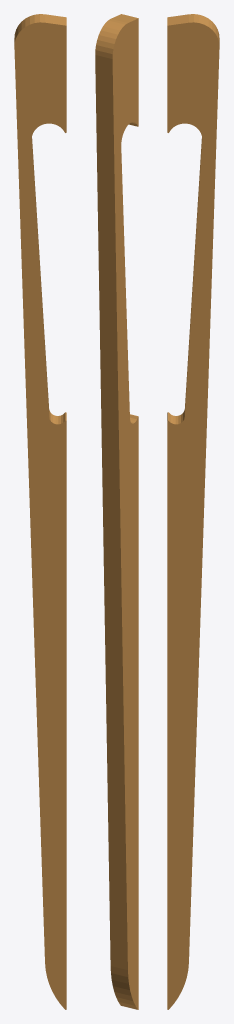
Rendered from 178 pvd gold.glb.
3 renders of one model, left to right at view 1: azimuth 90°, elevation 25°; view 2: azimuth 150°, elevation 25°; view 3: azimuth 270°, elevation 25°, orthographic.
Parts seen in each view (by area): view 1: CABINET_HANDLE_178; view 2: CABINET_HANDLE_178; view 3: CABINET_HANDLE_178.
Boxes of the visible parts, x1,y1,x2,y2 form: CABINET_HANDLE_178: (14,14,66,1009); CABINET_HANDLE_178: (95,14,138,1009); CABINET_HANDLE_178: (167,14,219,1009).
Size of the model in its own units: 0.1337 by 7.31 by 0.35.
